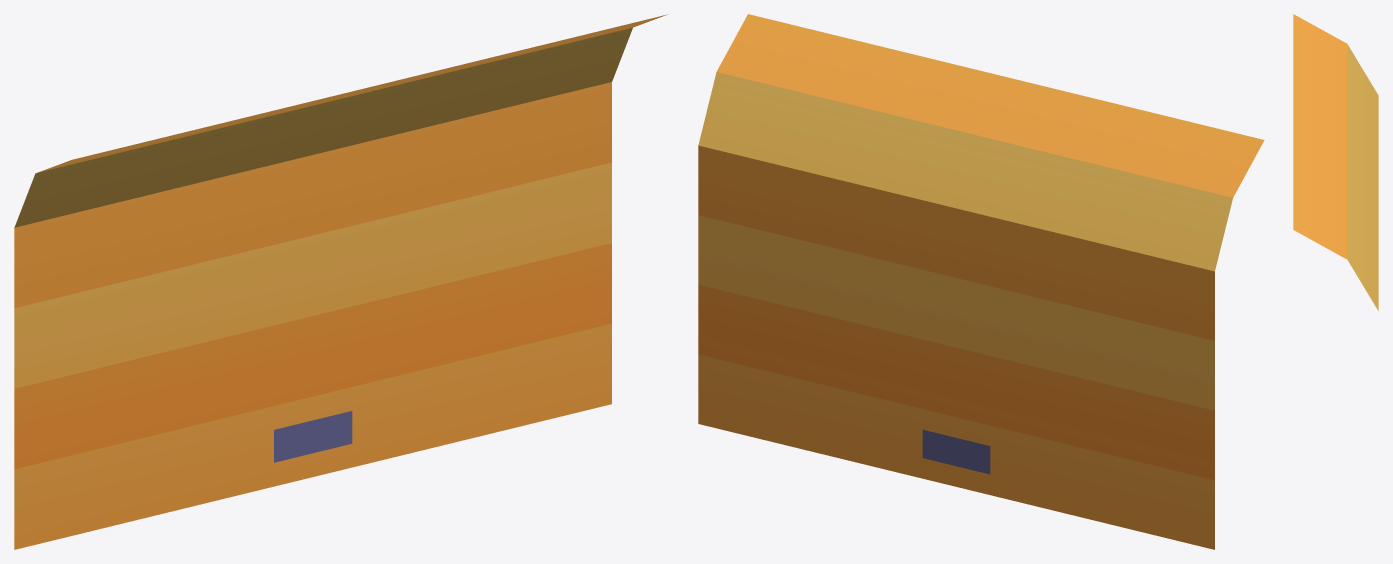
File: kenney-conveyor-door-wide-half.glb
3 renders of one model, left to right at view 1: azimuth 30°, elevation 25°; view 2: azimuth 150°, elevation 25°; view 3: azimuth 270°, elevation 25°, orthographic. The views are drawn at different scales.
Parts seen in each view (by area): view 1: door-wide-half; view 2: door-wide-half; view 3: door-wide-half.
Boxes of the visible parts, box(x1,y1,x2,y2) form: door-wide-half: box(14, 14, 667, 549); door-wide-half: box(698, 14, 1264, 549); door-wide-half: box(1293, 14, 1378, 310).
Size of the model in its own units: 1.8 by 1.24 by 0.2999.
Materials: 1 (1 with a texture image).
